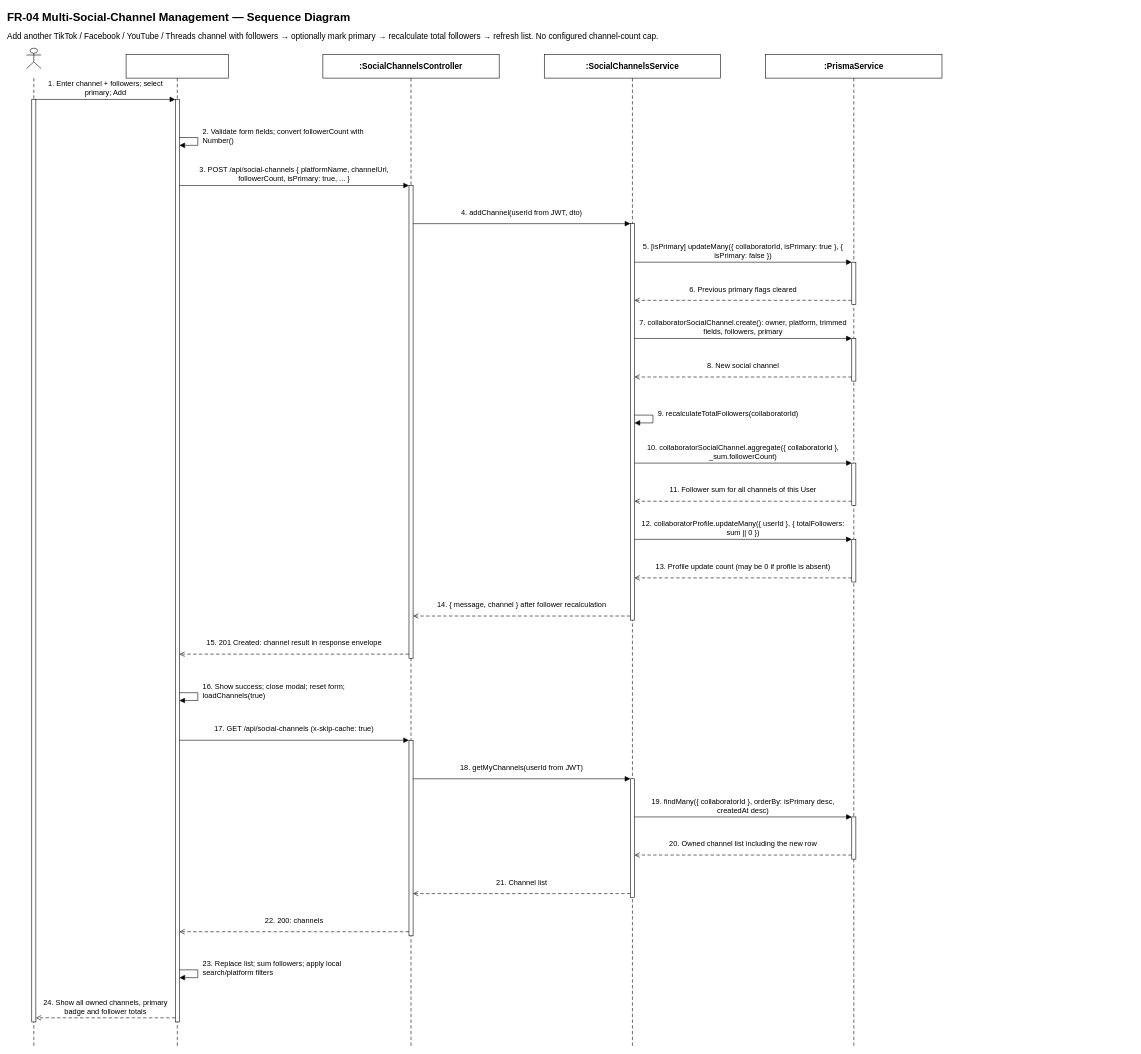
Image size: 1141x1054. Some labels were removed from this diagram. Here are the shapes that lost their labels. From the top down, the box of each, then its label:
(26, 48, 41, 69): KOL
(126, 54, 229, 78): Browser
